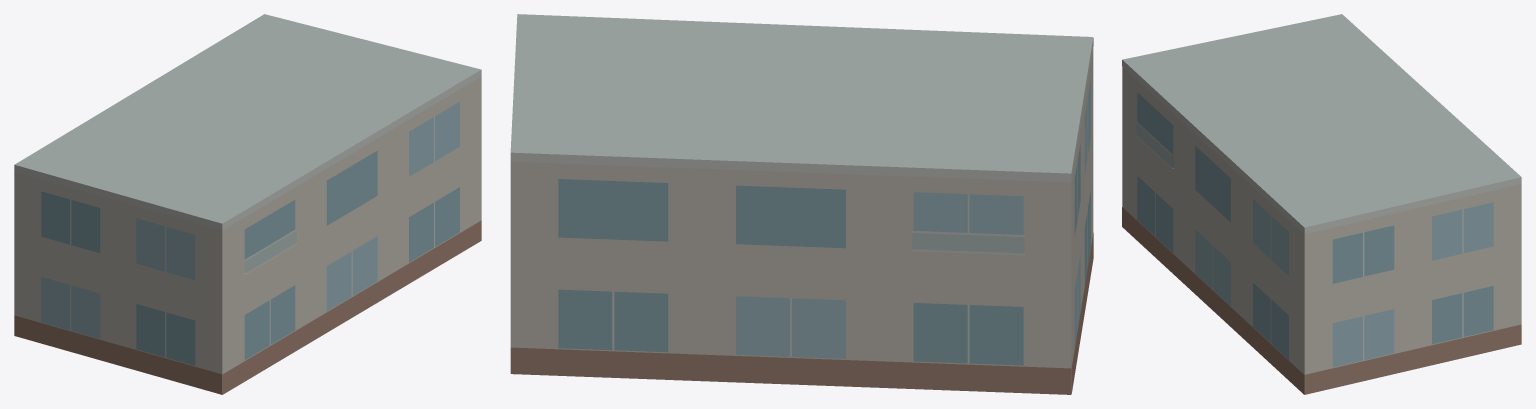
Rendered from survey-upis-32711233.glb.
3 renders of one model, left to right at view 1: azimuth 30°, elevation 25°; view 2: azimuth 150°, elevation 25°; view 3: azimuth 270°, elevation 25°, orthographic. The views are drawn at different scales.
Parts seen in each view (by area): view 1: survey-upis-32711233.tmp; view 2: survey-upis-32711233.tmp; view 3: survey-upis-32711233.tmp.
Boxes of the visible parts, x1,y1,x2,y2 form: survey-upis-32711233.tmp: (14,14,481,394); survey-upis-32711233.tmp: (510,14,1093,394); survey-upis-32711233.tmp: (1122,14,1521,394).
Size of the model in its own units: 16.71 by 6.1 by 13.21.
